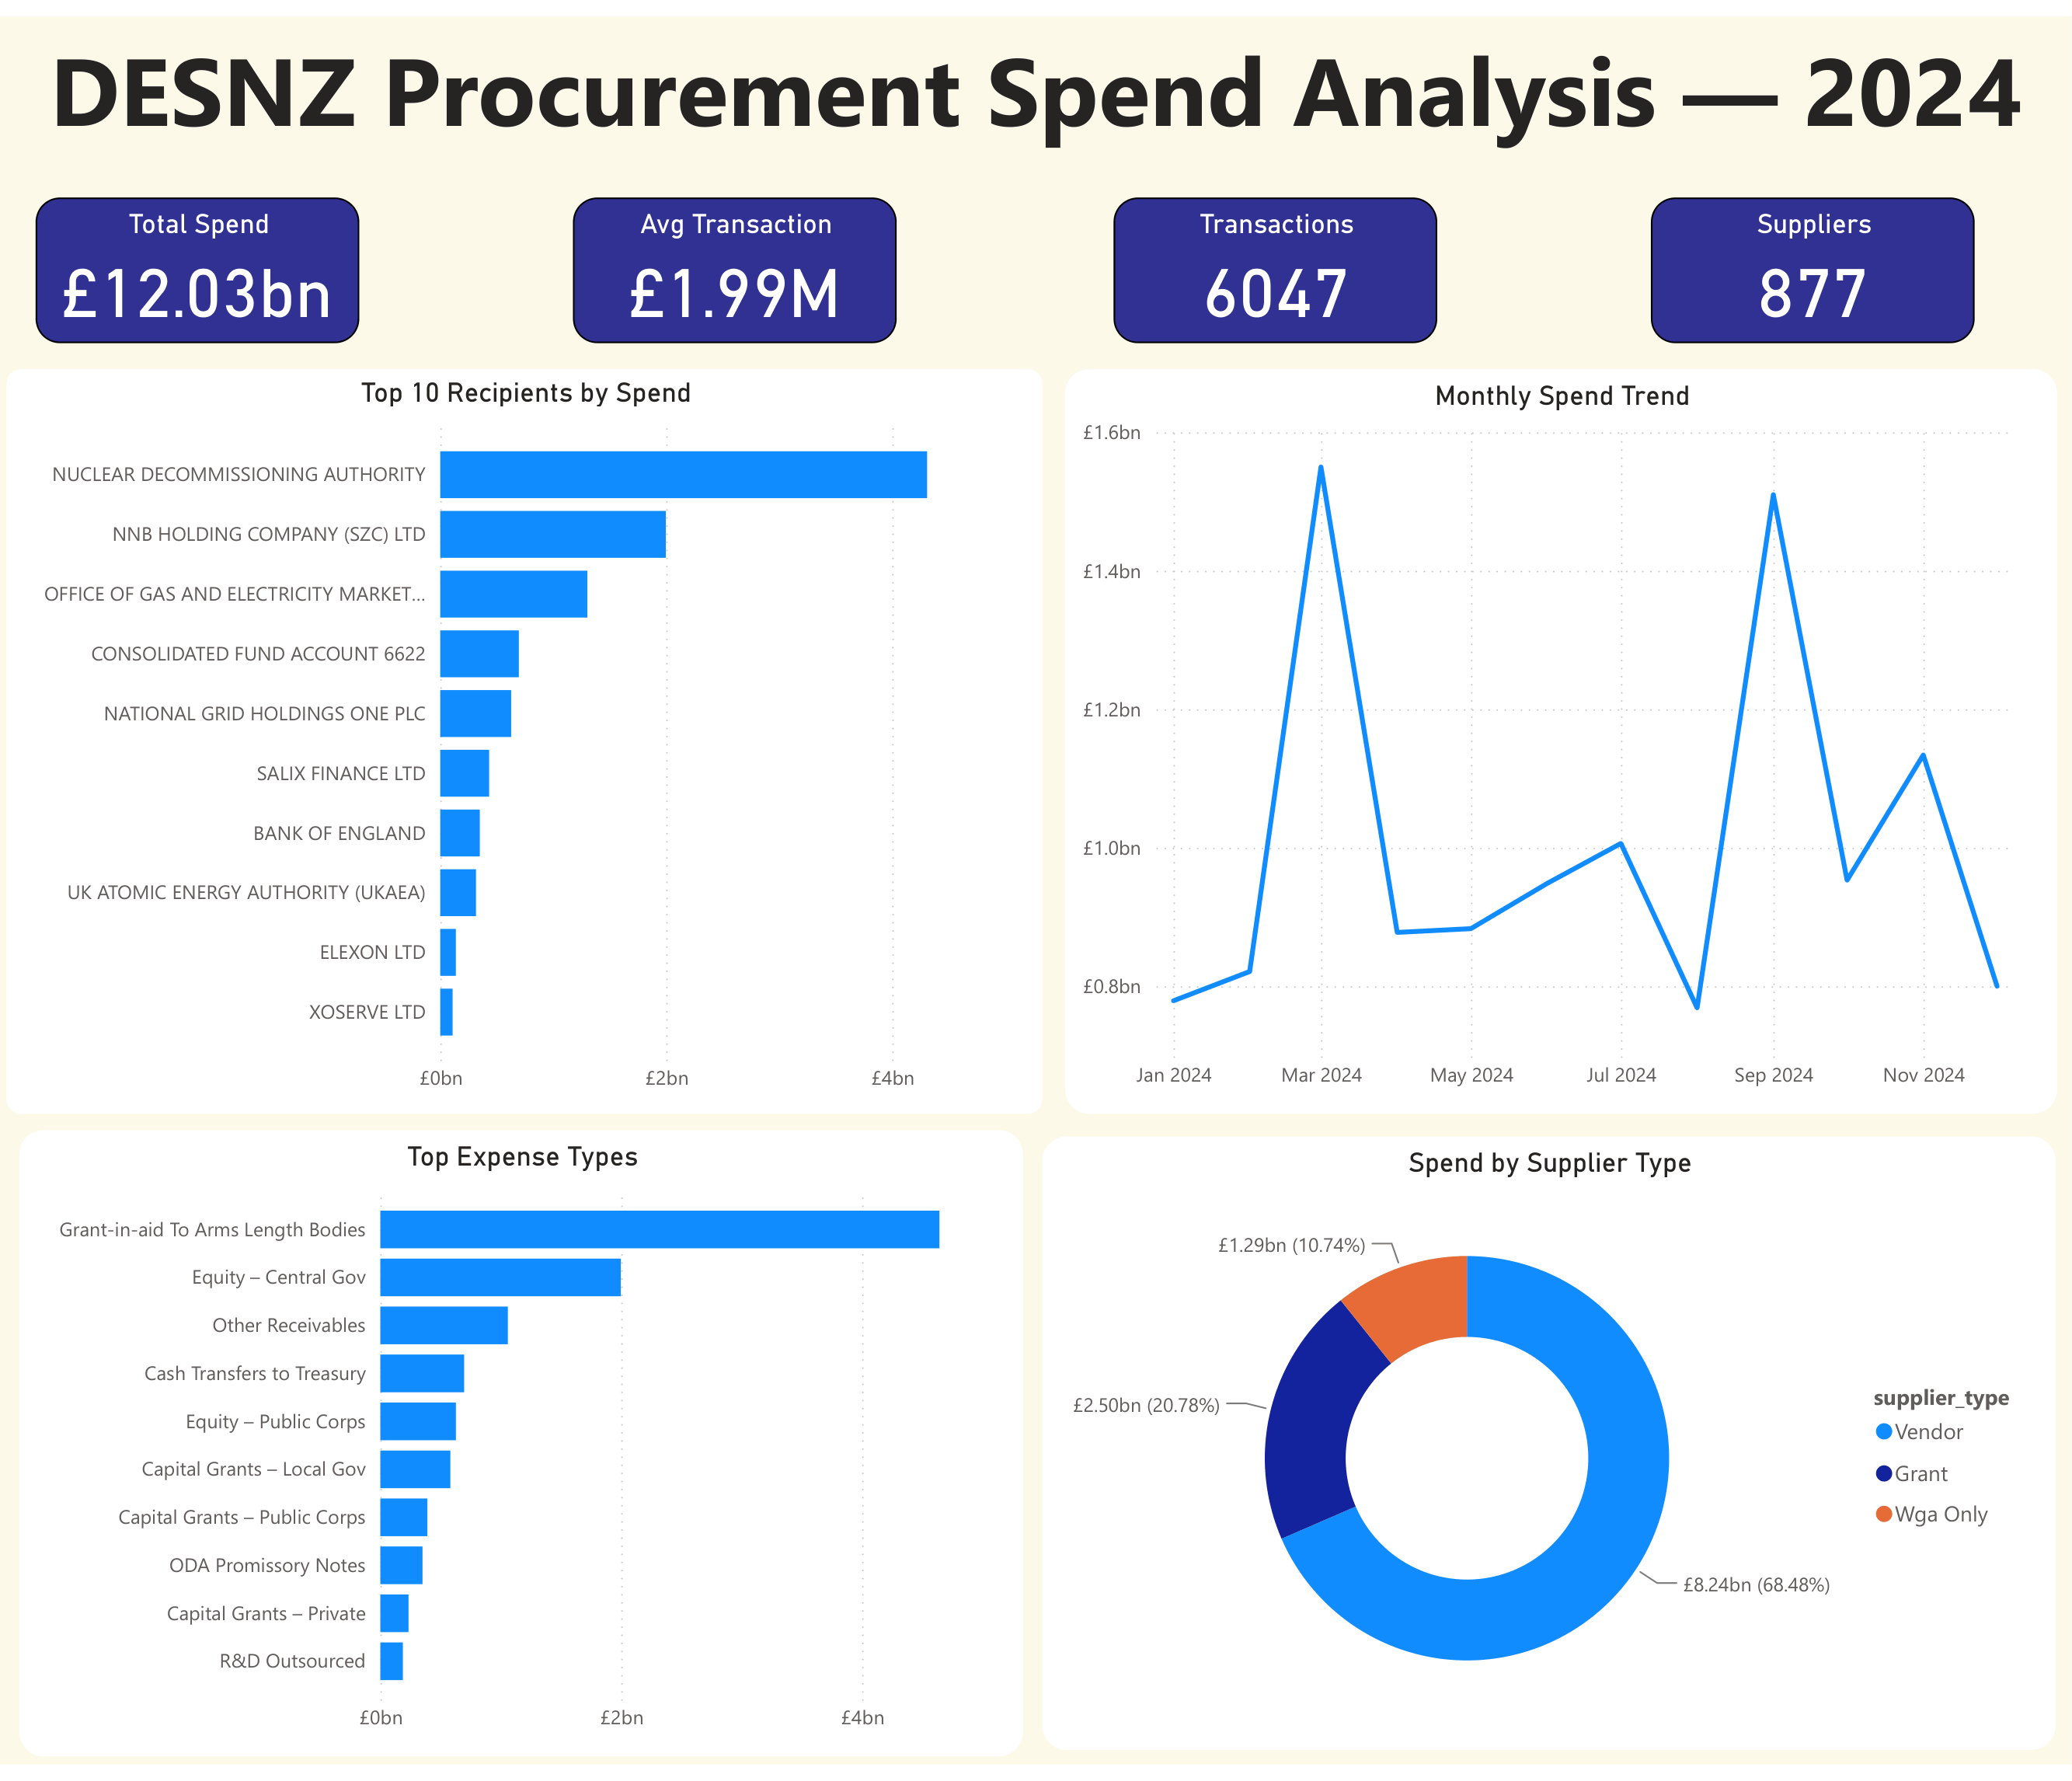

What the dashboard file says about the page in this screenshot:
{"tool":"powerbi","page":{"name":"Page 1","canvas":[1280,1080],"ordinal":0},"visuals":[{"type":"card","title":"Total Spend","fields":{"Values":["Sum(desnz_clean.amount)"]},"box":[21.4,111.4,200,90],"z":0},{"type":"card","title":"Transactions","fields":{"Values":["CountNonNull(desnz_clean.transaction_number)"]},"box":[687.4,111.4,200,90],"z":1000},{"type":"card","title":"Suppliers","fields":{"Values":["Count(desnz_clean.supplier)"]},"box":[1020.4,111.4,200,90],"z":2000},{"type":"card","title":"Avg Transaction","fields":{"Values":["Avg(desnz_clean.amount)"]},"box":[354.4,111.4,200,90],"z":3000},{"type":"barChart","title":"Top 10 Recipients by Spend","fields":{"Category":["desnz_clean.supplier"],"Y":["Sum(desnz_clean.amount)"]},"box":[4.3,217.1,640,460],"z":4000},{"type":"lineChart","title":"Monthly Spend Trend","fields":{"Y":["Sum(desnz_clean.amount)"],"Category":["desnz_clean.payment_month"]},"box":[657.1,217.1,612.9,460],"z":5000},{"type":"barChart","title":"Top Expense Types","fields":{"Category":["desnz_clean.expense_type"],"Y":["Sum(desnz_clean.amount)"]},"box":[12.9,688.6,620,387.1],"z":6000},{"type":"donutChart","title":"Spend by Supplier Type","fields":{"Category":["desnz_clean.supplier_type"],"Y":["Sum(desnz_clean.amount)"]},"box":[644.3,692.9,625.7,378.6],"z":7000},{"type":"textbox","box":[0,0,1280,90],"z":8000}]}

Visuals, with their boxes in screenshot pixels (x1, y1, x2, y2), scaled from the page's 1280x1080 canvas onto the 2072x1781 screenshot:
"Total Spend" card: left=35, top=183, right=358, bottom=332
"Transactions" card: left=1113, top=183, right=1436, bottom=332
"Suppliers" card: left=1652, top=183, right=1976, bottom=332
"Avg Transaction" card: left=573, top=183, right=897, bottom=332
"Top 10 Recipients by Spend" barChart: left=7, top=358, right=1043, bottom=1117
"Monthly Spend Trend" lineChart: left=1064, top=358, right=2056, bottom=1117
"Top Expense Types" barChart: left=21, top=1135, right=1025, bottom=1774
"Spend by Supplier Type" donutChart: left=1043, top=1142, right=2056, bottom=1767
textbox: left=0, top=0, right=2071, bottom=148
